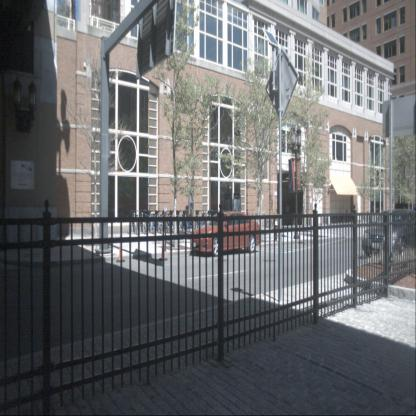movable_object-trafficcone: (116, 233, 126, 262), (159, 230, 168, 262)
vehicle-car: (190, 211, 261, 257), (362, 208, 416, 259)
